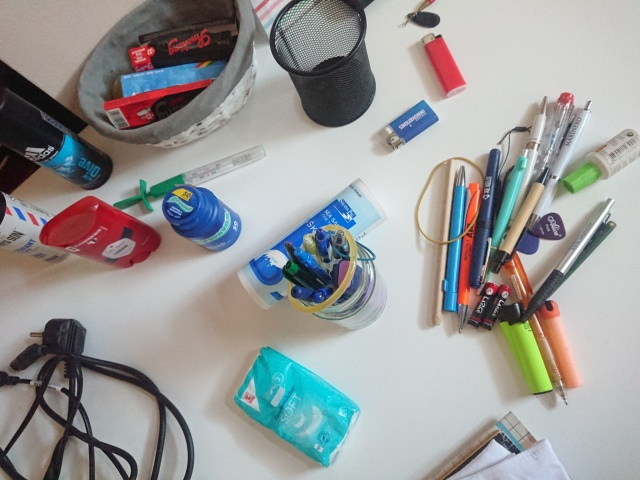Solana Pag Fine Sea Salt 250g: (234, 175, 389, 313)
